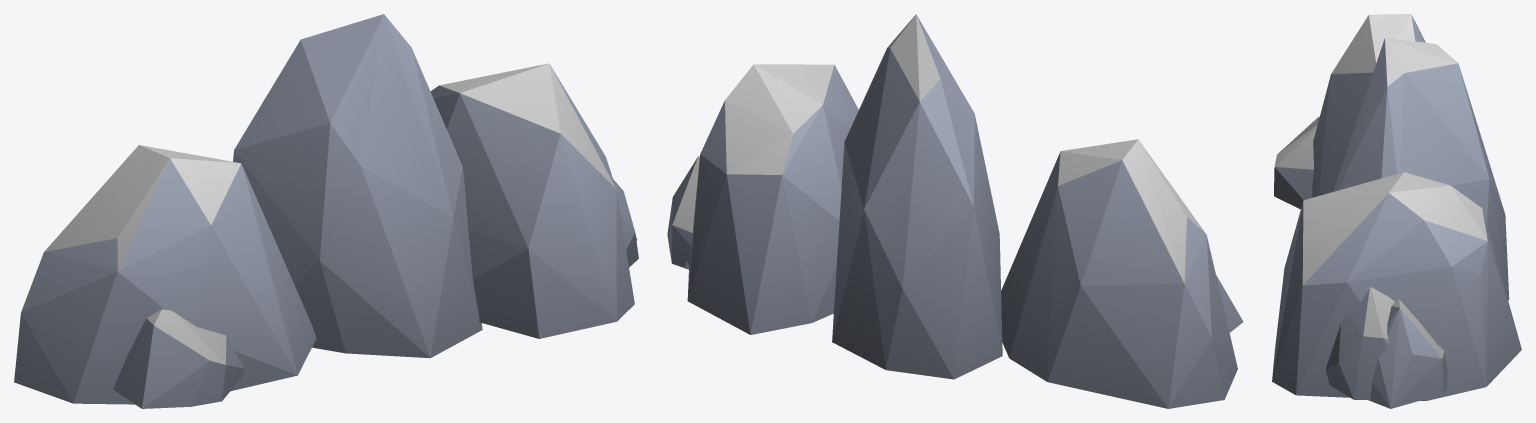
Rendered from rk_rockss_2.glb.
The picture shows the model from 3 angles, left to right: view 1: azimuth 30°, elevation 25°; view 2: azimuth 150°, elevation 25°; view 3: azimuth 270°, elevation 25°; orthographic projection. The views are drawn at different scales.
Parts seen in each view (by area): view 1: rk_rockss_2; view 2: rk_rockss_2; view 3: rk_rockss_2.
Boxes of the visible parts, left/top/right/bottom form: rk_rockss_2: left=14, top=14, right=638, bottom=408; rk_rockss_2: left=667, top=14, right=1243, bottom=408; rk_rockss_2: left=1272, top=14, right=1521, bottom=408.
Bounding box in the file's own units: 49.48 × 24.46 × 19.92.
